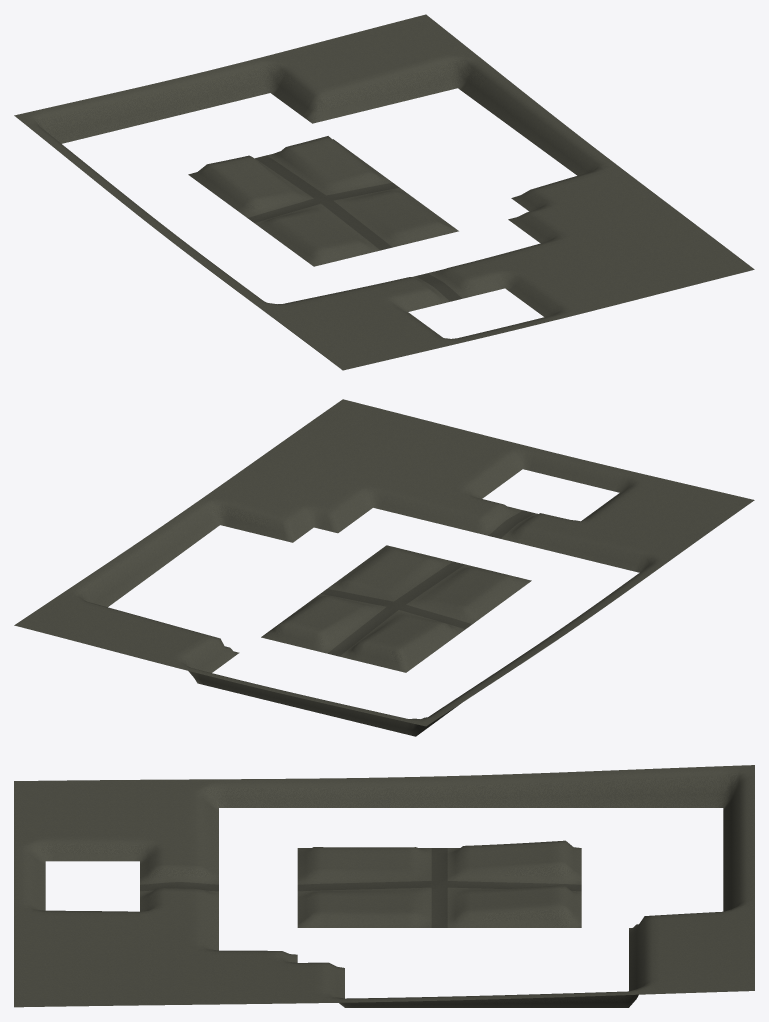
Rendered from level_site_prison_terrain.glb.
3 renders of one model, top to bottom at view 1: azimuth 30°, elevation 25°; view 2: azimuth 150°, elevation 25°; view 3: azimuth 270°, elevation 25°, orthographic. The views are drawn at different scales.
Parts seen in each view (by area): view 1: level_site_prison_terrain; view 2: level_site_prison_terrain; view 3: level_site_prison_terrain.
Part boxes in pixels (left/top/right/bottom): level_site_prison_terrain: left=14, top=14, right=754, bottom=370; level_site_prison_terrain: left=14, top=399, right=754, bottom=736; level_site_prison_terrain: left=14, top=765, right=754, bottom=1007.
Size of the model in its own units: 68 by 4.24 by 94.
Materials: 2 (2 with a texture image).
